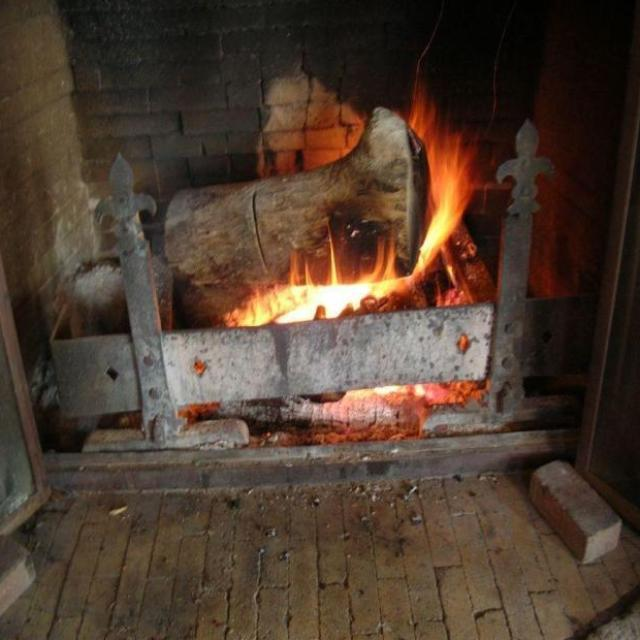smoke: (223, 245, 404, 328), (414, 90, 477, 271)
